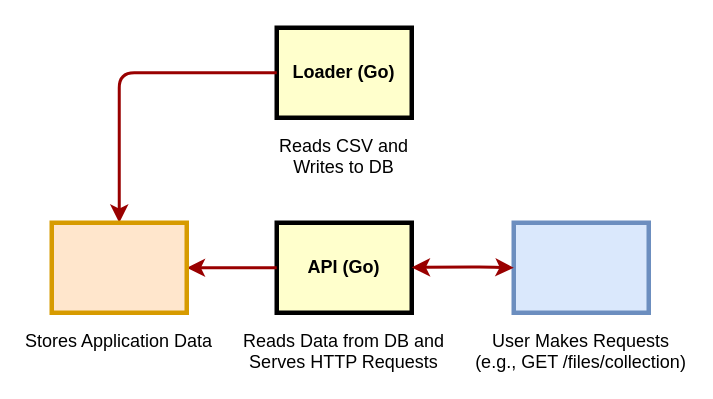
The diagram is 713 pixels wide and 399 high, and some of its shapes have lost their labels. Here are the shapes that lost their labels. From the top down, the box of each, then its label:
(49, 220, 188, 314): Postgres
(511, 220, 650, 314): Client
